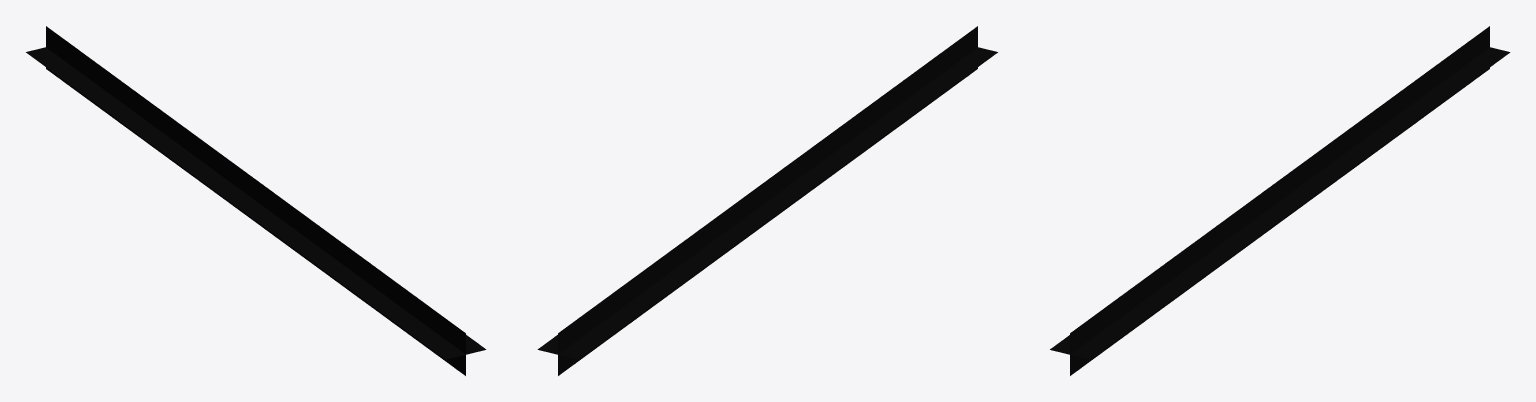
The model's file is laser_beam_player.glb.
3 renders of one model, left to right at view 1: azimuth 30°, elevation 25°; view 2: azimuth 150°, elevation 25°; view 3: azimuth 330°, elevation 25°, orthographic.
Parts seen in each view (by area): view 1: node_id4; view 2: node_id4; view 3: node_id4.
Part boxes in pixels (<box>): node_id4: <box>26,26,486,375</box>; node_id4: <box>537,26,997,375</box>; node_id4: <box>1050,26,1510,375</box>.
Size of the model in its own units: 0.0187 by 0.0187 by 0.2143.
1 material, 1 textured.
